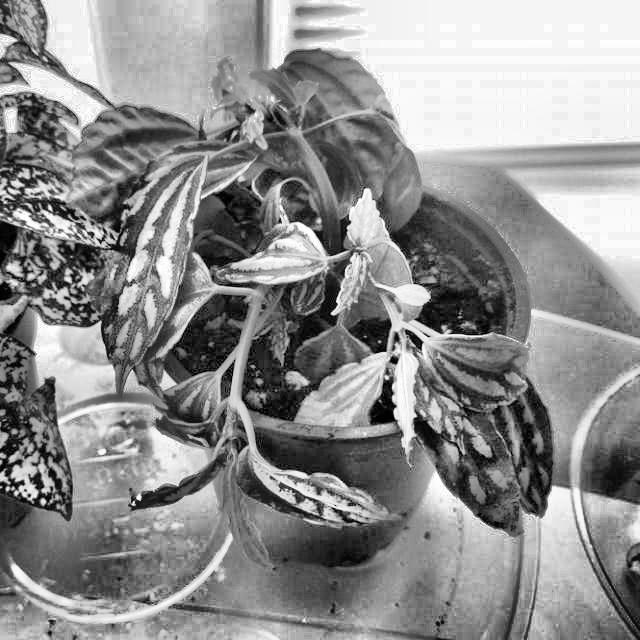plants: (93, 45, 548, 573)
